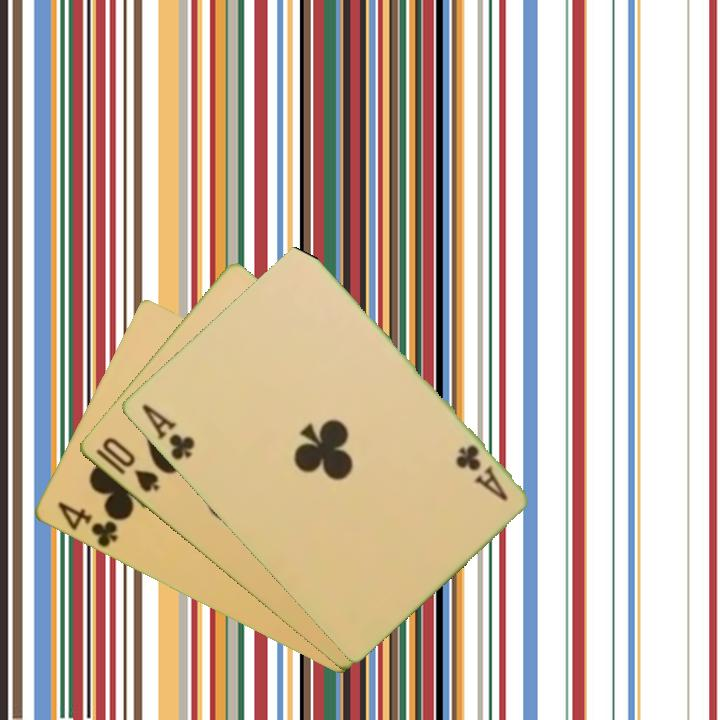10s: (98, 433, 162, 496)
4c: (54, 498, 121, 551)
Ac: (137, 400, 198, 463), (451, 441, 511, 504)
